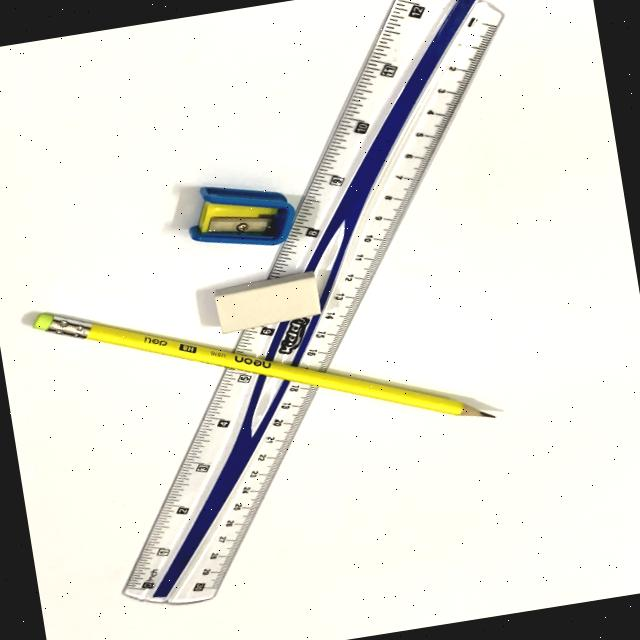Eraser: (194, 264, 334, 344)
Pencil: (13, 300, 517, 438)
Scale: (113, 0, 523, 614)
Sharpner: (164, 166, 306, 264)
